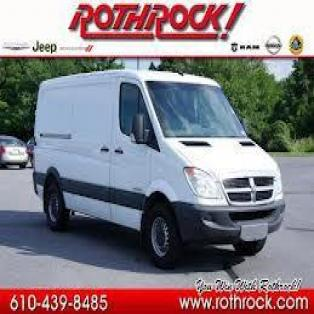Auto: (29, 68, 286, 264)
